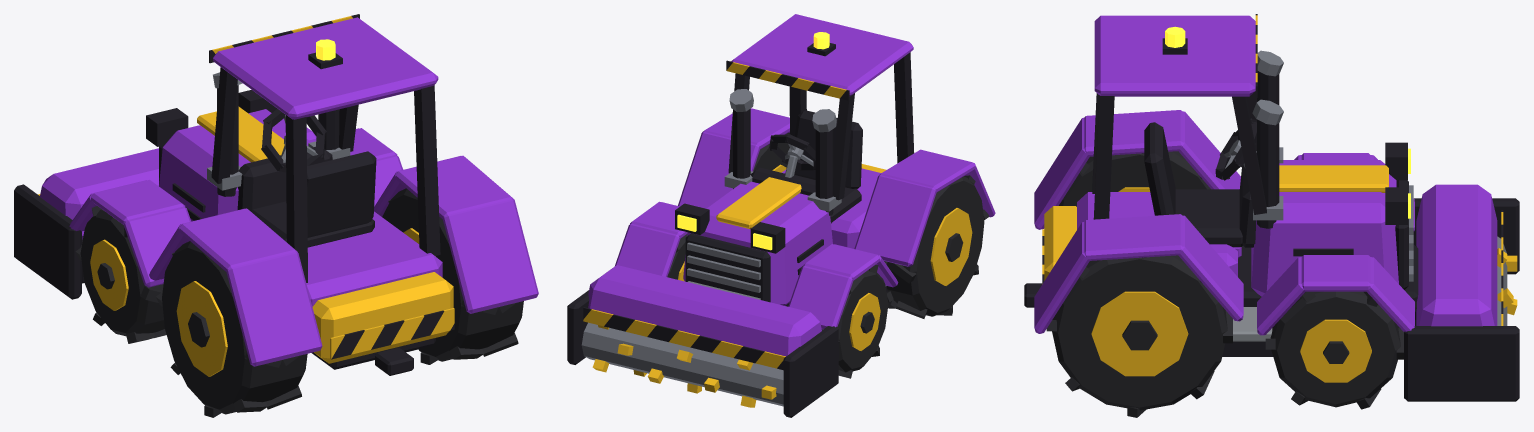
Rendered from mower_mulcher.glb.
3 renders of one model, left to right at view 1: azimuth 30°, elevation 25°; view 2: azimuth 150°, elevation 25°; view 3: azimuth 270°, elevation 25°, orthographic. The views are drawn at different scales.
Visible parts, largest first — view 1: SmoothPlastic__963CDC, SmoothPlastic__201E26, Plastic__28282C, SmoothPlastic__FFC41E, Metal__787C86; view 2: SmoothPlastic__963CDC, SmoothPlastic__201E26, Metal__787C86, Plastic__28282C, SmoothPlastic__FFC41E, Neon__FFAA28; view 3: SmoothPlastic__963CDC, SmoothPlastic__201E26, Plastic__28282C, SmoothPlastic__FFC41E, Metal__787C86, DiamondPlate__8C9096, Neon__FFAA28.
Boxes of the visible parts, x1,y1,x2,y2 form: SmoothPlastic__963CDC: [39, 17, 538, 366]; SmoothPlastic__201E26: [14, 14, 454, 375]; Plastic__28282C: [75, 188, 523, 417]; SmoothPlastic__FFC41E: [38, 16, 454, 376]; Metal__787C86: [207, 72, 350, 190]; SmoothPlastic__963CDC: [588, 14, 995, 356]; SmoothPlastic__201E26: [567, 43, 914, 417]; Metal__787C86: [581, 89, 841, 406]; Plastic__28282C: [667, 132, 989, 378]; SmoothPlastic__FFC41E: [583, 62, 972, 407]; Neon__FFAA28: [677, 32, 829, 250]; SmoothPlastic__963CDC: [1034, 15, 1497, 335]; SmoothPlastic__201E26: [1024, 14, 1519, 401]; Plastic__28282C: [1046, 151, 1403, 417]; SmoothPlastic__FFC41E: [1042, 15, 1517, 382]; Metal__787C86: [1224, 50, 1507, 325]; DiamondPlate__8C9096: [1233, 307, 1272, 341]; Neon__FFAA28: [1165, 26, 1410, 218].
Size of the model in its own units: 6.65 by 7 by 9.85.
